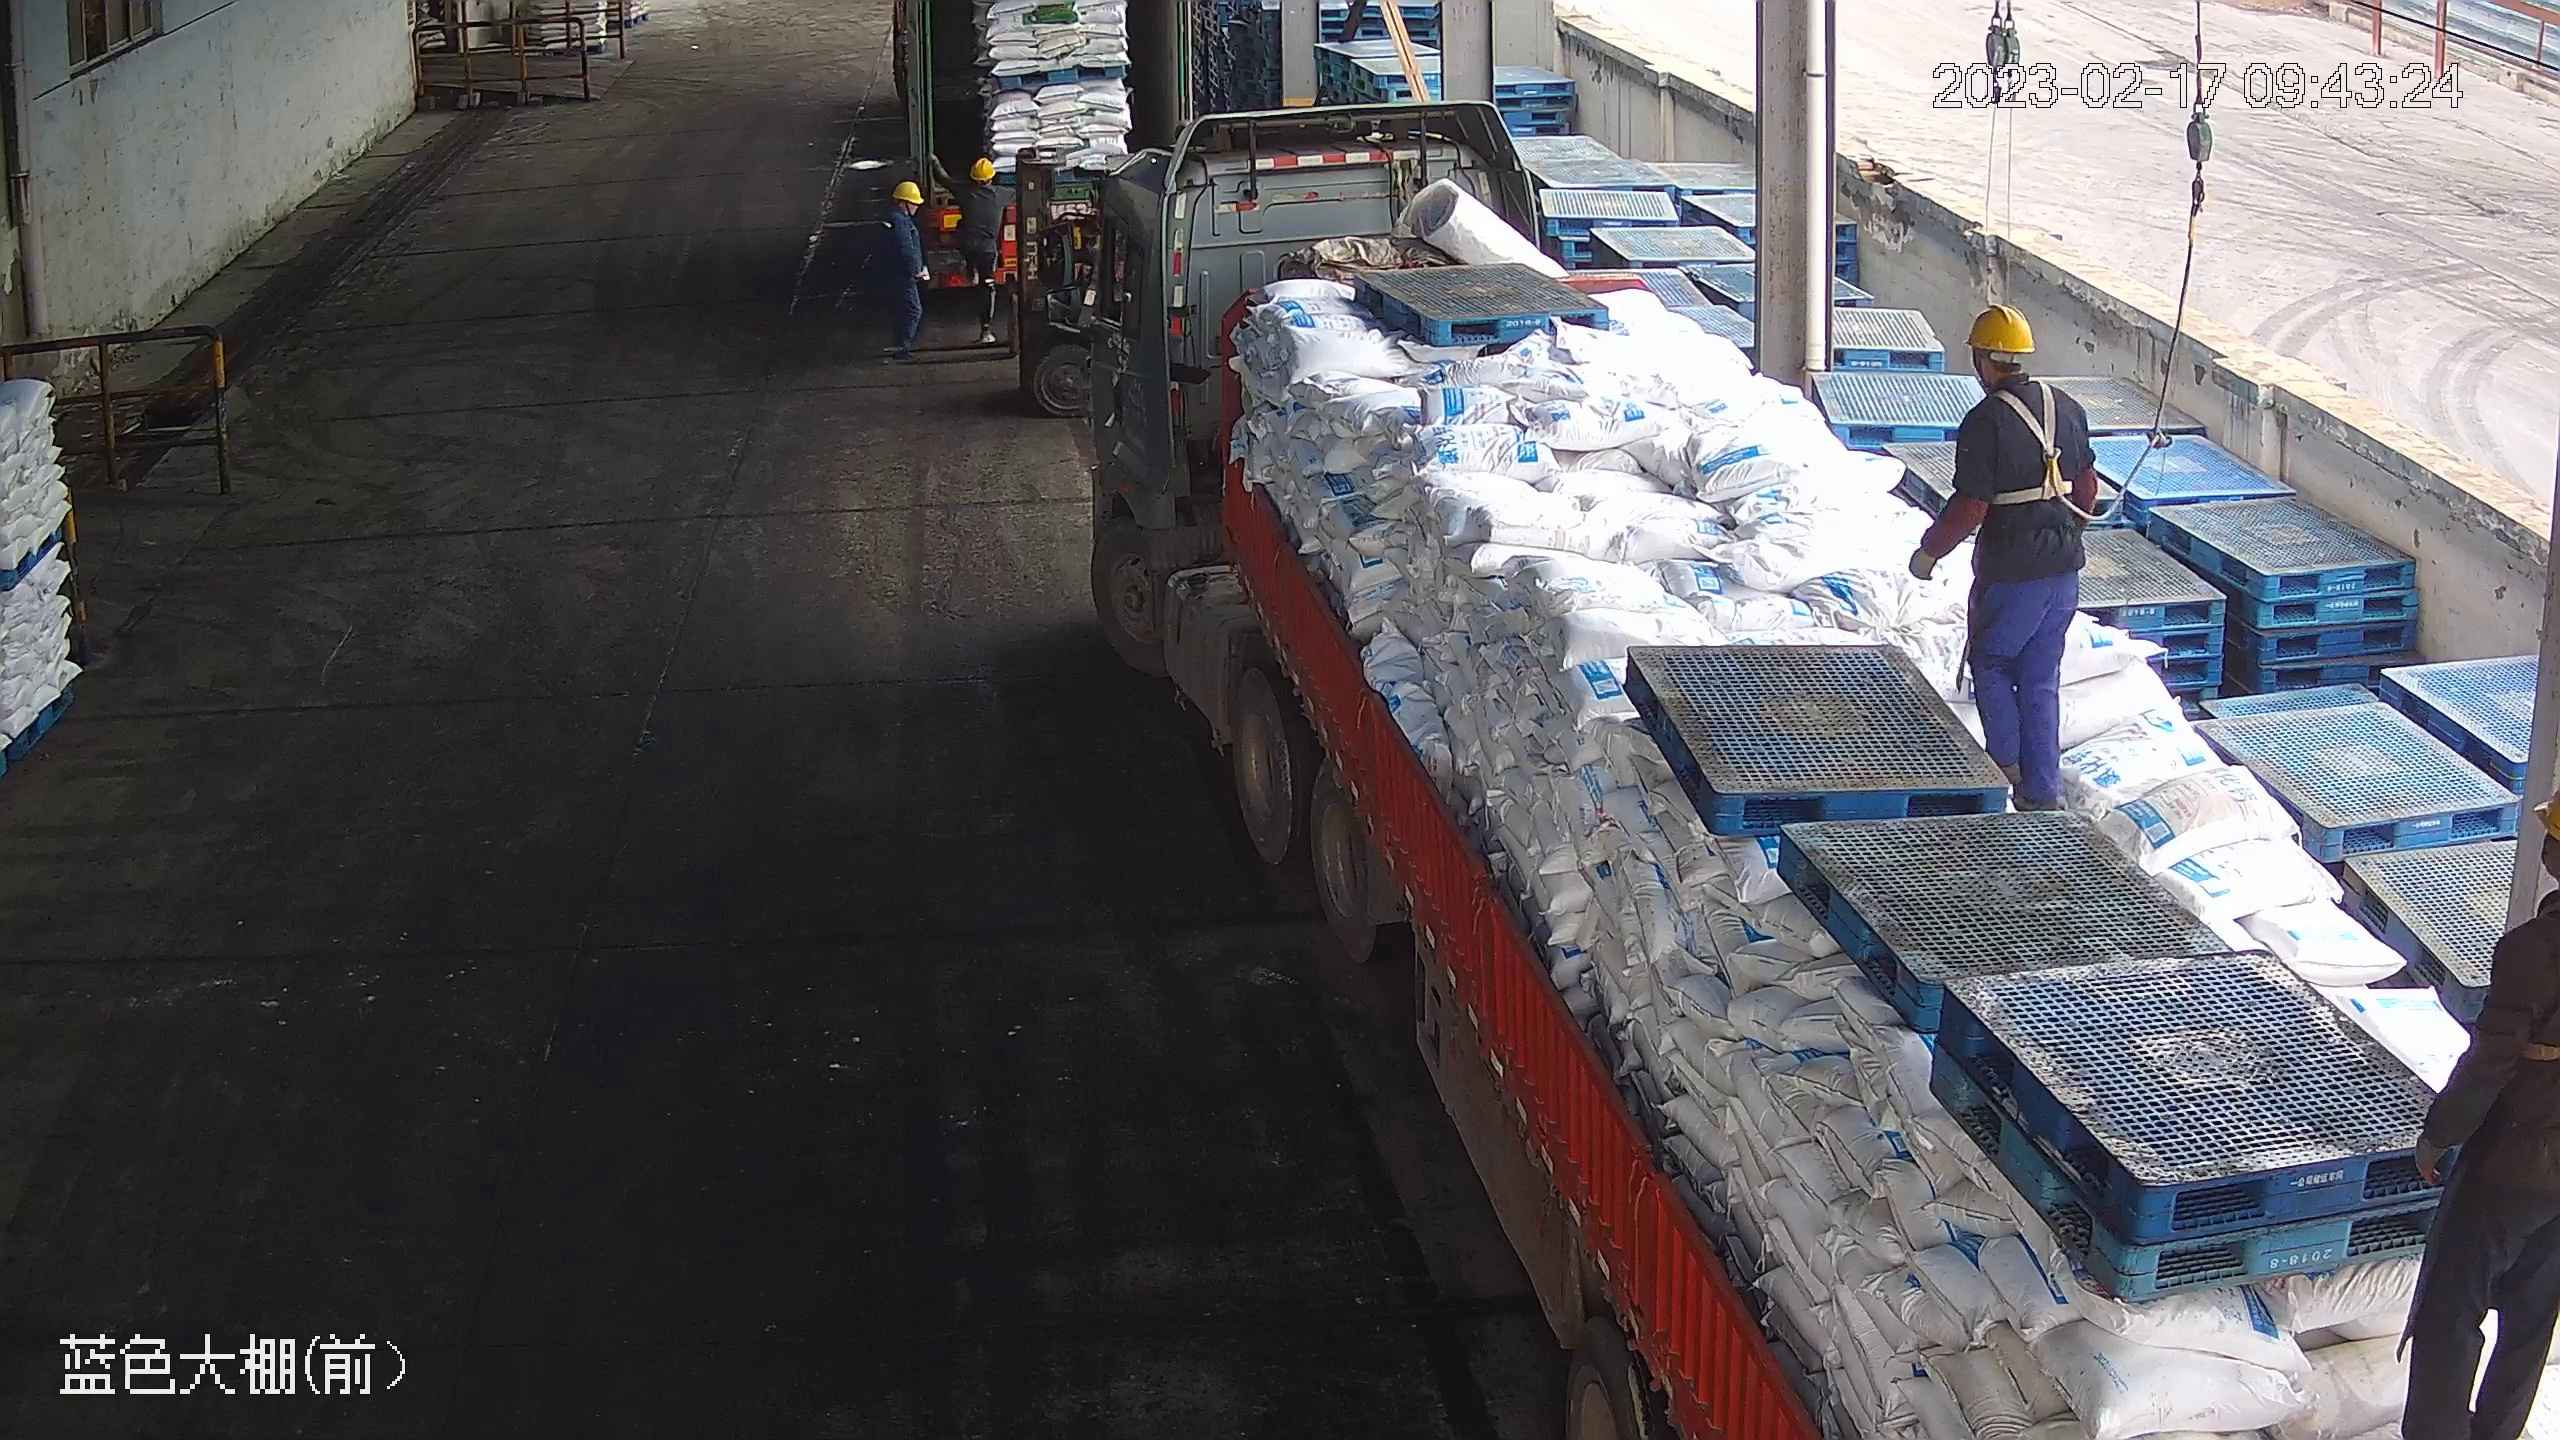belt: (1985, 383, 2086, 508)
head: (1944, 301, 2093, 445), (884, 176, 934, 248), (955, 156, 1006, 215)
helmet: (1961, 299, 2032, 353), (890, 176, 926, 206), (967, 156, 1000, 184)
people: (2391, 776, 2560, 1437), (1906, 302, 2106, 815), (928, 155, 1003, 340), (883, 175, 934, 363)
truck: (1092, 98, 2555, 1440), (891, 2, 1190, 293)
